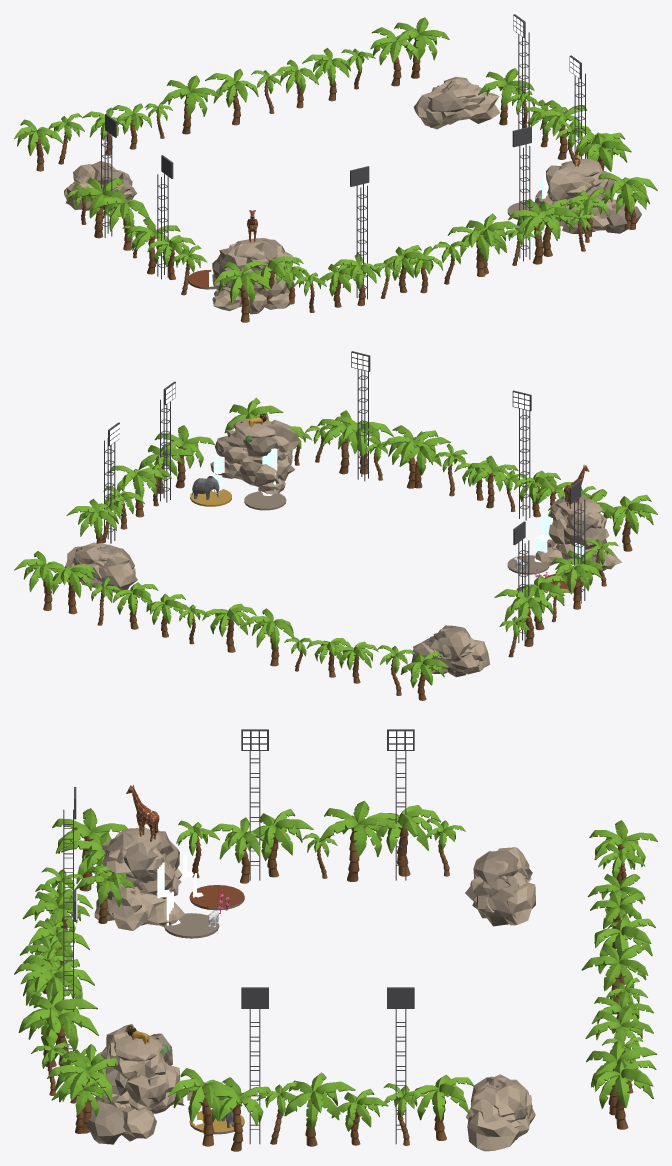
File: SM_Zoo_Decor.glb
3 renders of one model, top to bottom at view 1: azimuth 30°, elevation 25°; view 2: azimuth 150°, elevation 25°; view 3: azimuth 270°, elevation 25°, orthographic. The views are drawn at different scales.
Parts seen in each view (by area): view 1: SM_Zoo_Decor; view 2: SM_Zoo_Decor; view 3: SM_Zoo_Decor.
Boxes of the visible parts, bbox=[...] form: SM_Zoo_Decor: bbox=[14, 14, 657, 322]; SM_Zoo_Decor: bbox=[14, 351, 657, 700]; SM_Zoo_Decor: bbox=[14, 729, 657, 1151].
Bounding box in the file's own units: 88.02 × 24.28 × 79.48.
Materials: 20 (4 with a texture image).
